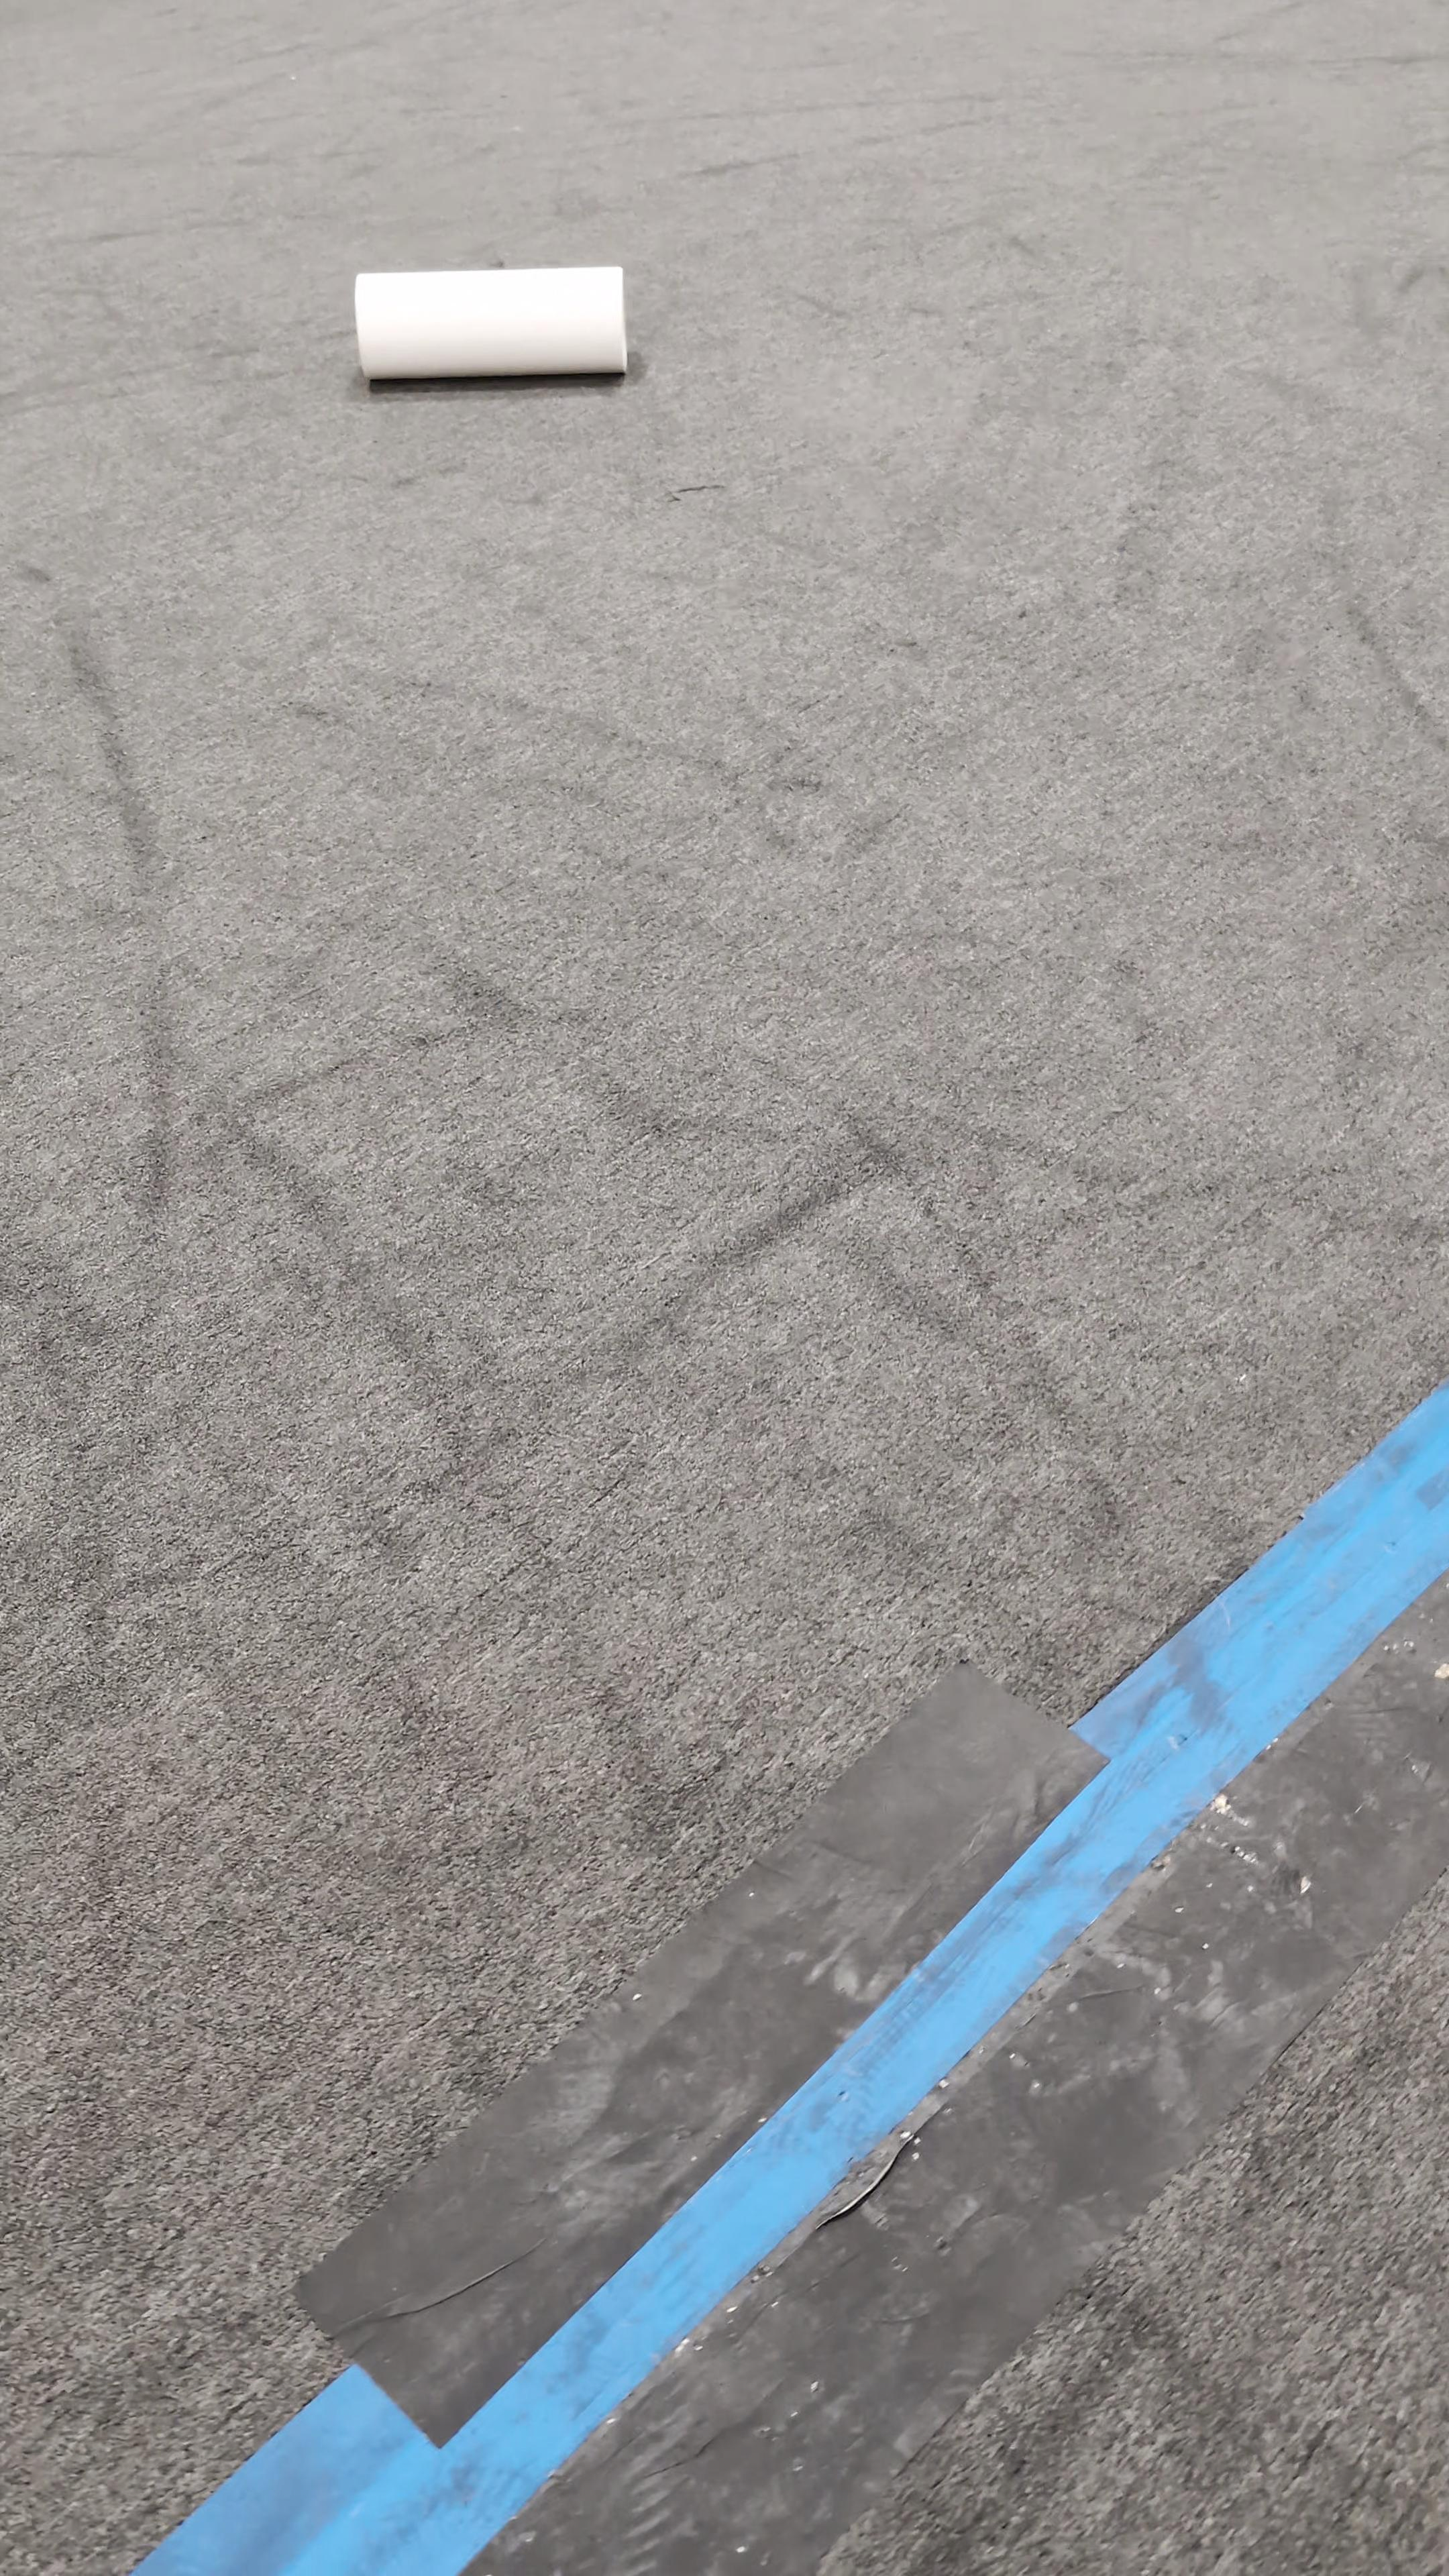coral: (352, 260, 630, 380)
